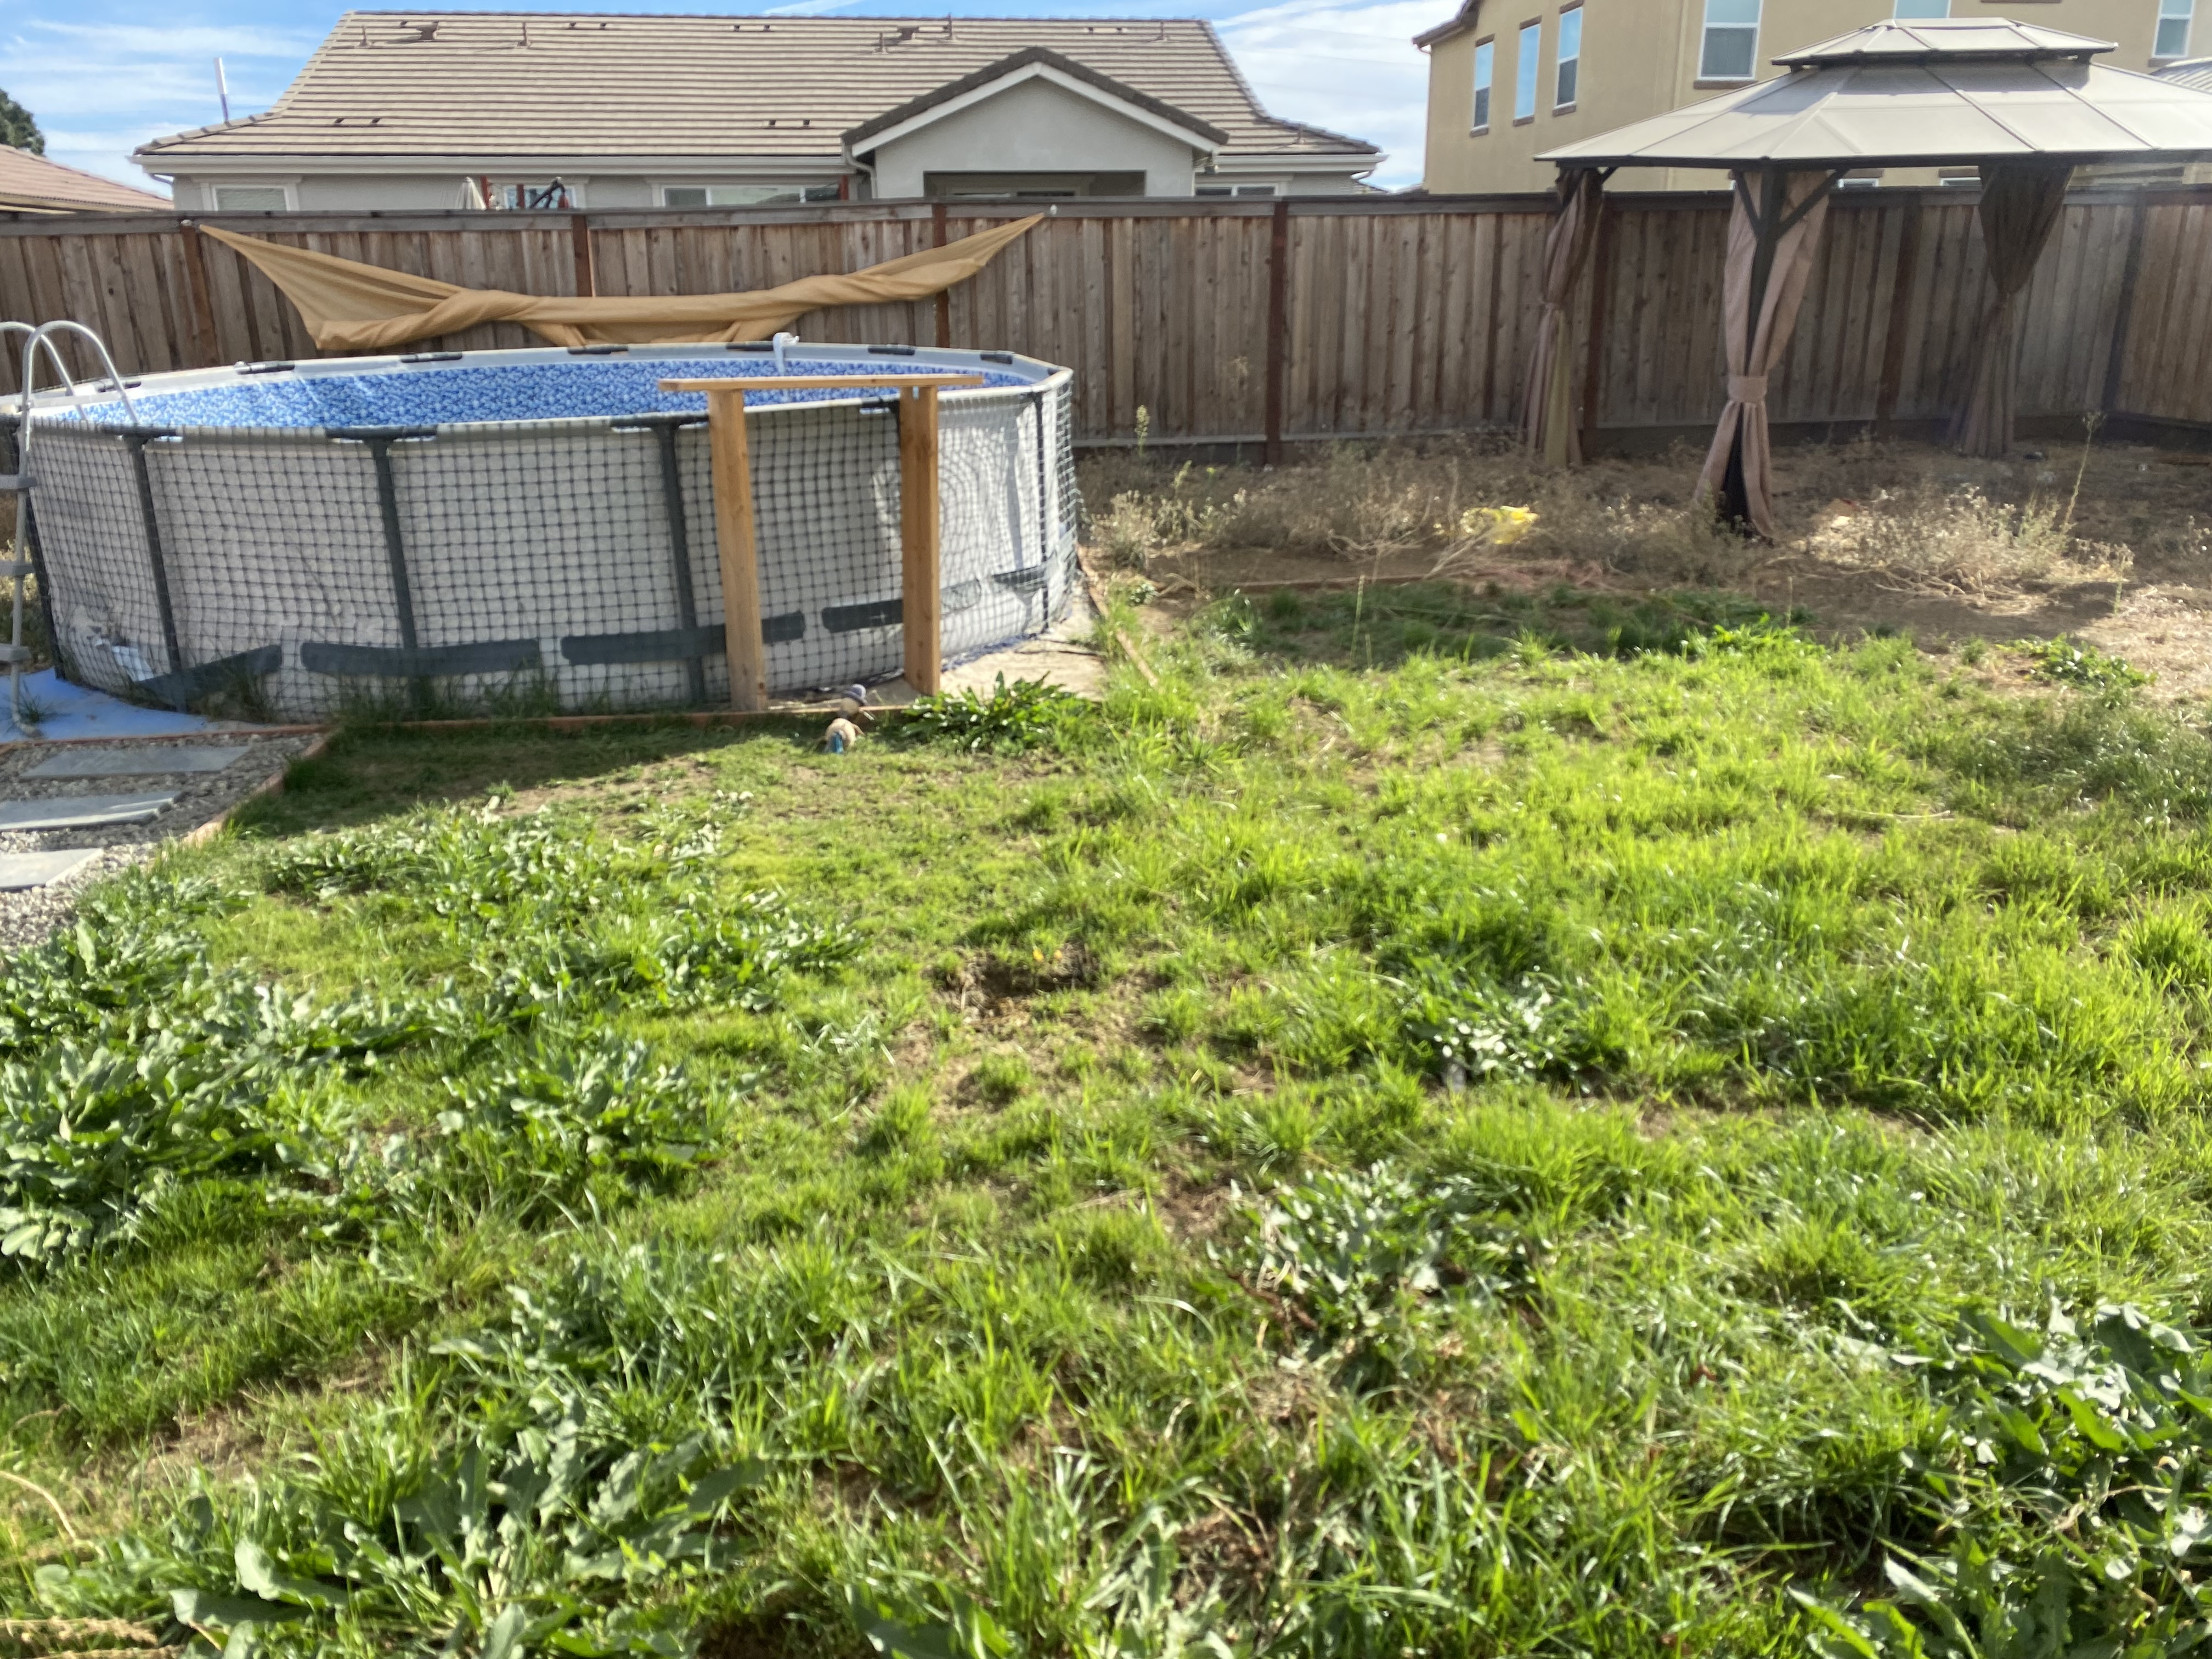weed: (272, 1344, 784, 1659), (14, 885, 359, 1223), (1902, 1316, 2212, 1659), (1251, 1140, 1489, 1317), (892, 678, 1101, 742)
